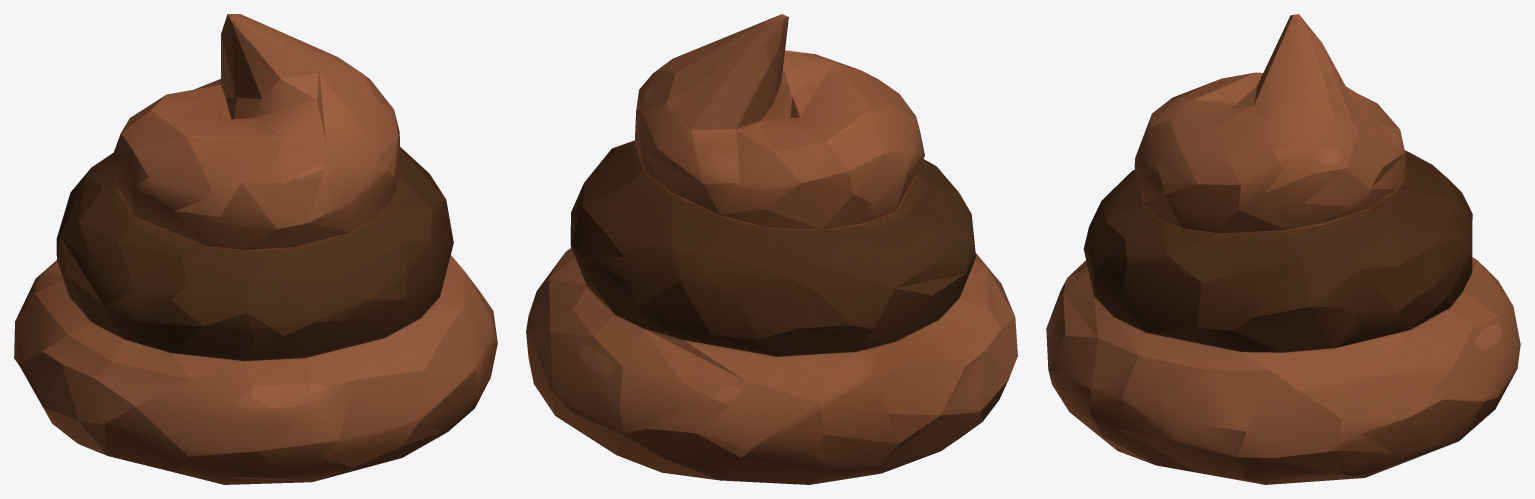
Rendered from meshy.glb.
3 views of the same model, side by side, from view 1: azimuth 30°, elevation 25°; view 2: azimuth 150°, elevation 25°; view 3: azimuth 270°, elevation 25° (orthographic). The views are drawn at different scales.
Bounding box in the file's own units: 1.89 × 1.65 × 1.89.
1 material, 1 textured.
